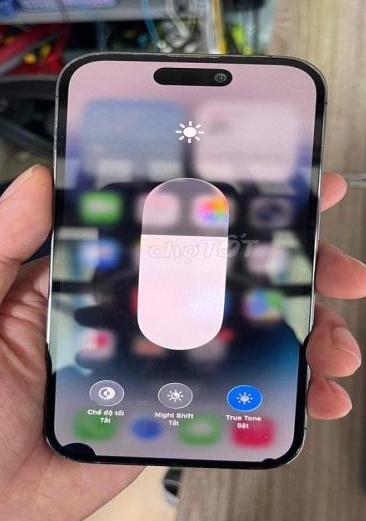scratch: (71, 49, 239, 73)
screen_defect: (56, 433, 103, 467), (253, 450, 282, 472)
